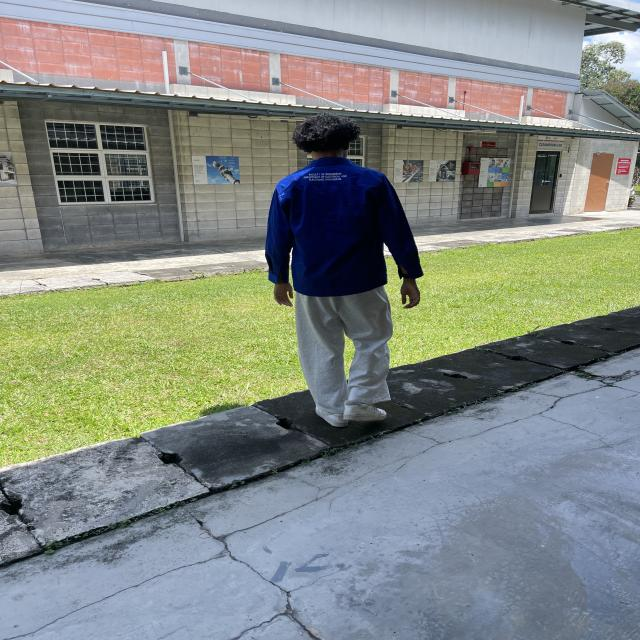person_with_labcoat: (265, 113, 423, 428)
